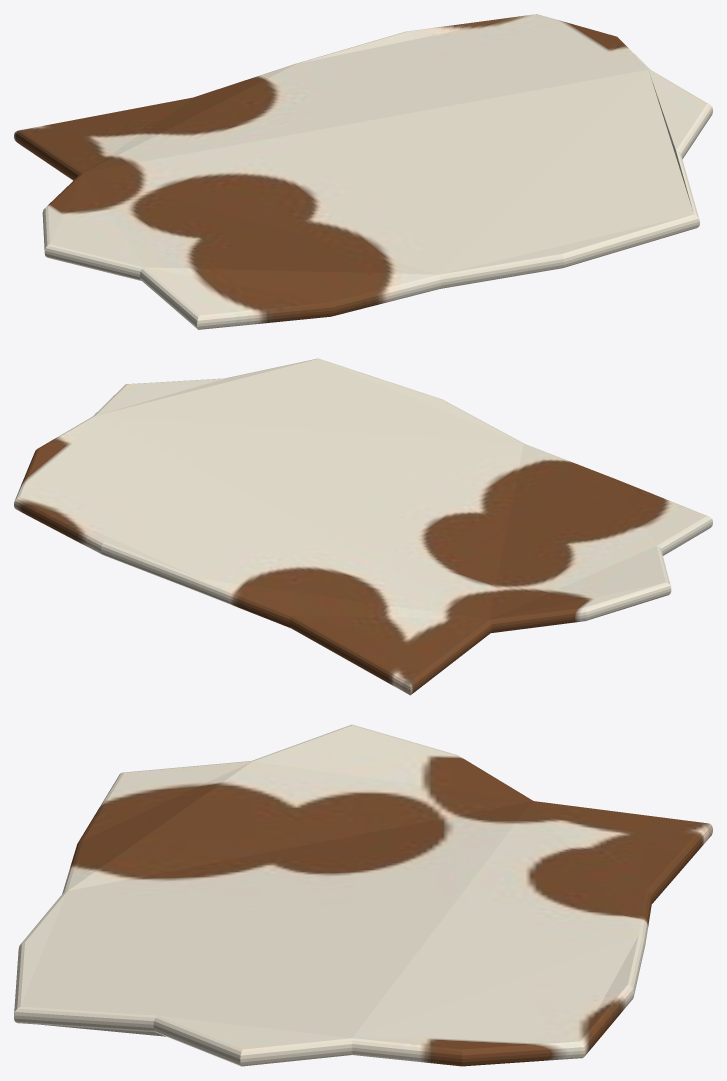
Rendered from cowhide.glb.
The picture shows the model from 3 angles, top to bottom: view 1: azimuth 30°, elevation 25°; view 2: azimuth 150°, elevation 25°; view 3: azimuth 270°, elevation 25°; orthographic projection. The views are drawn at different scales.
Visible parts, largest first — view 1: cowhide; view 2: cowhide; view 3: cowhide.
Boxes of the visible parts, bbox=[...] form: cowhide: bbox=[14, 14, 712, 329]; cowhide: bbox=[14, 358, 712, 695]; cowhide: bbox=[14, 724, 712, 1066].
Bounding box in the file's own units: 0.4766 × 0.0486 × 0.3911.
Materials: 1 (1 with a texture image).
